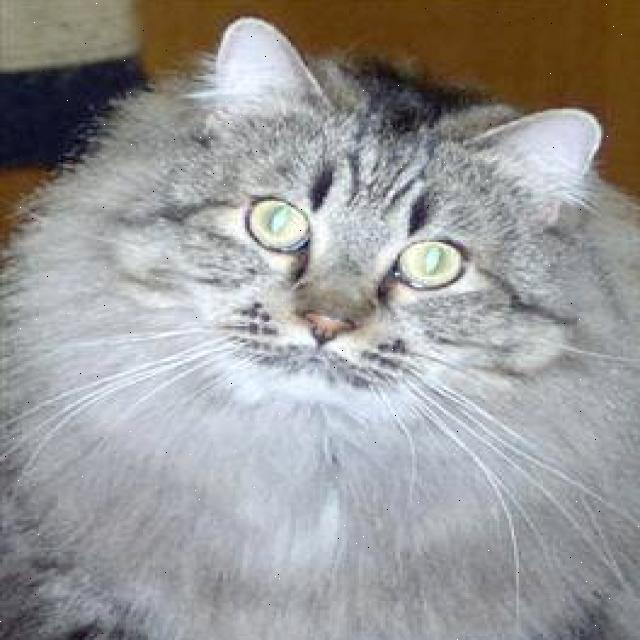Cat: (155, 27, 611, 436)
